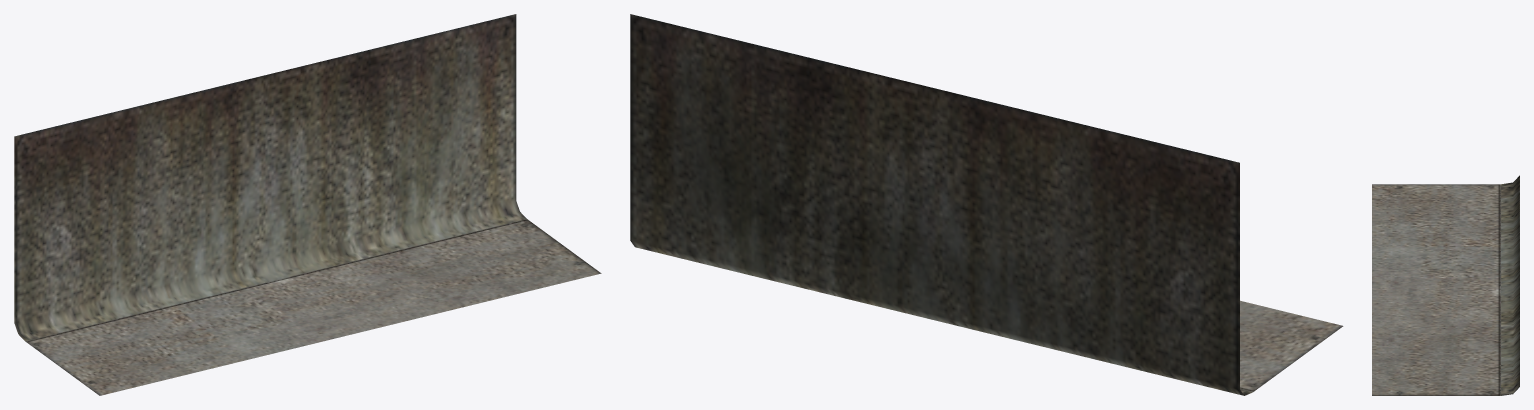
Rendered from lab_ceiling_box_welder_plain_rusty.dae.
The picture shows the model from 3 angles, left to right: view 1: azimuth 30°, elevation 25°; view 2: azimuth 150°, elevation 25°; view 3: azimuth 270°, elevation 25°; orthographic projection. The views are drawn at different scales.
Visible parts, largest first — view 1: lab_ceiling_box_welder_plain; view 2: lab_ceiling_box_welder_plain; view 3: lab_ceiling_box_welder_plain.
Part boxes in pixels (x1,y1,x2,y2): lab_ceiling_box_welder_plain: (14,14,601,395); lab_ceiling_box_welder_plain: (630,14,1343,395); lab_ceiling_box_welder_plain: (1372,175,1519,395).
Bounding box in the file's own units: 2 × 0.75 × 0.5901.
